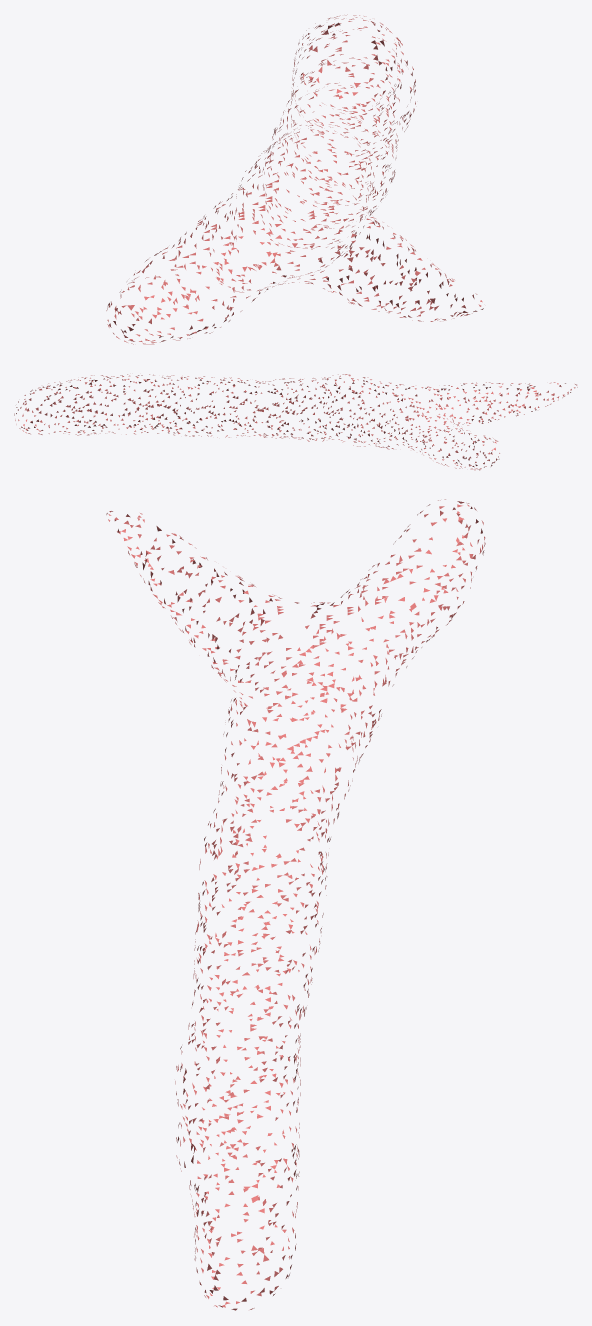
File: morph_000.glb
3 views of the same model, one above another, from view 1: azimuth 90°, elevation 25°; view 2: azimuth 150°, elevation 25°; view 3: azimuth 270°, elevation 25° (orthographic). The views are drawn at different scales.
Bounding box in the file's own units: 133 × 37.07 × 41.
